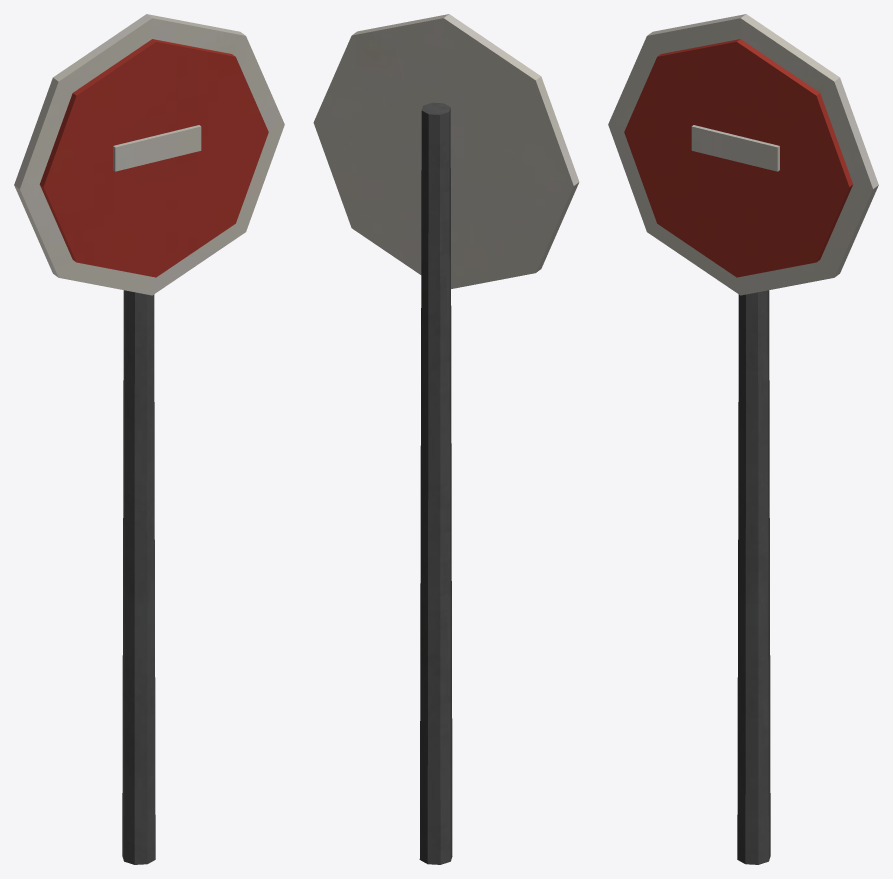
The model's file is stop_sign_01.glb.
3 renders of one model, left to right at view 1: azimuth 30°, elevation 25°; view 2: azimuth 150°, elevation 25°; view 3: azimuth 330°, elevation 25°, orthographic.
Visible parts, largest first — view 1: stop_sign_01; view 2: stop_sign_01; view 3: stop_sign_01.
Part boxes in pixels (x1=…): stop_sign_01: x1=14, y1=14, x2=284, y2=864; stop_sign_01: x1=313, y1=14, x2=579, y2=864; stop_sign_01: x1=608, y1=14, x2=878, y2=864.
Size of the model in its own units: 0.8 by 2.45 by 0.146.
3 materials, 3 textured.
